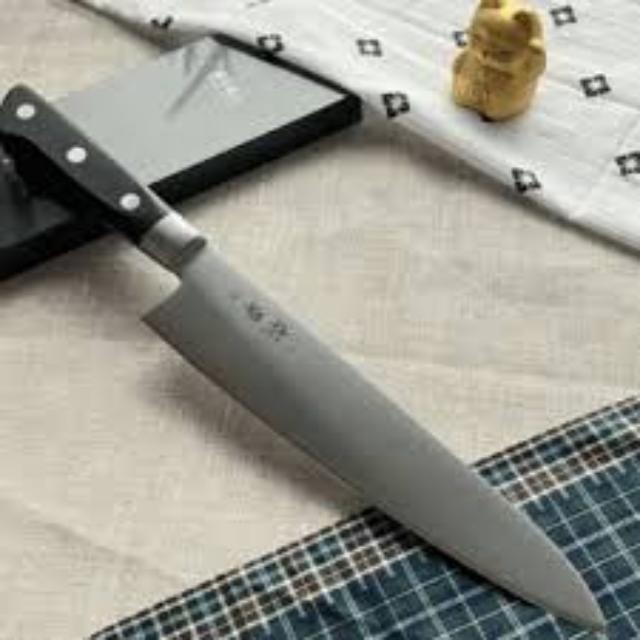Knife: (1, 77, 606, 631)
